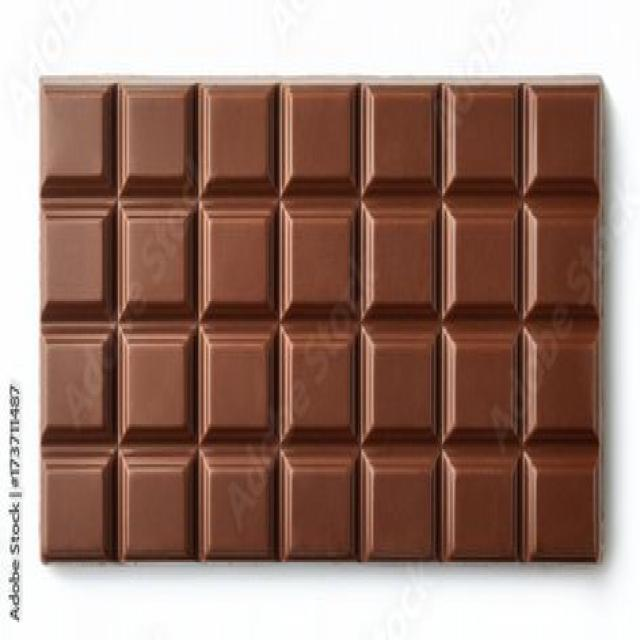chocolate: (38, 70, 611, 568)
